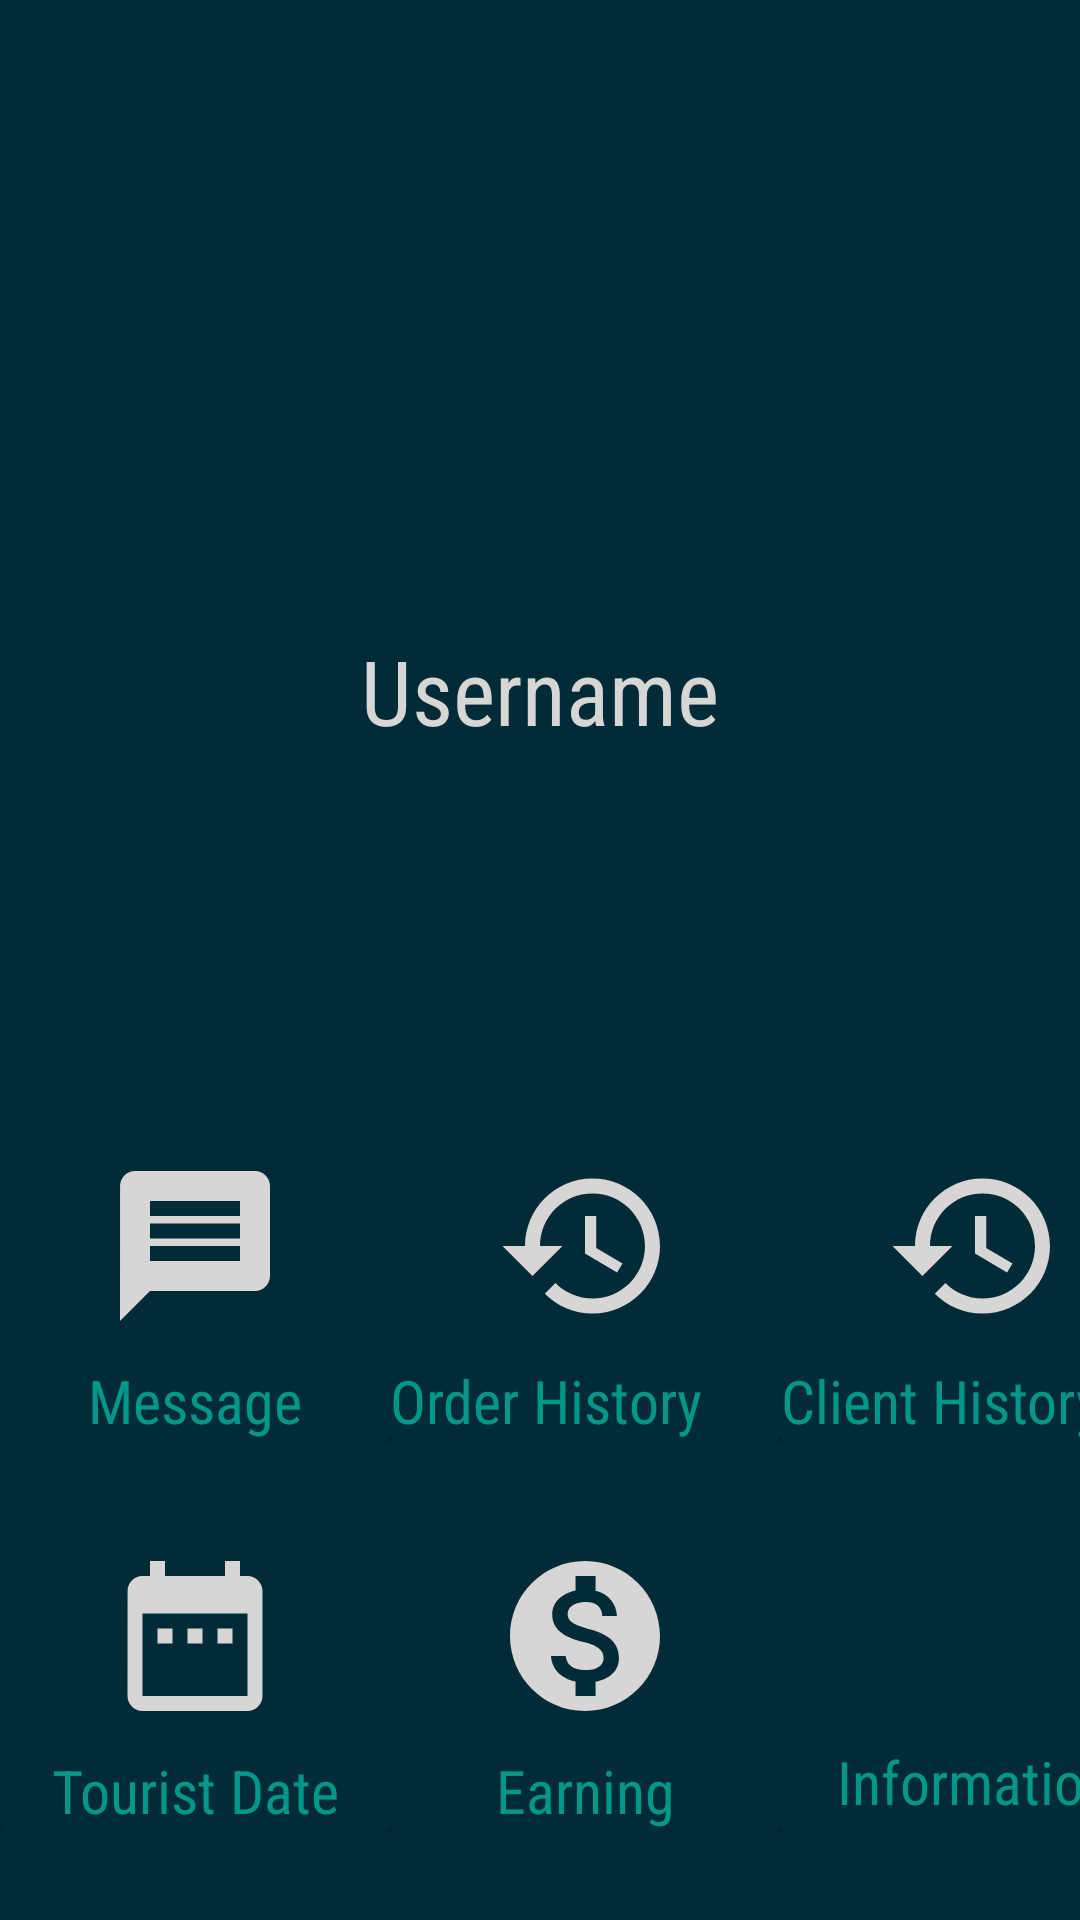

Named icons in this screenshot (1080w x 1920h) and their bounding boxes, (x1,y1,x2,y2):
date range: (127,1561,263,1711)
monetization on: (510,1561,660,1711)
